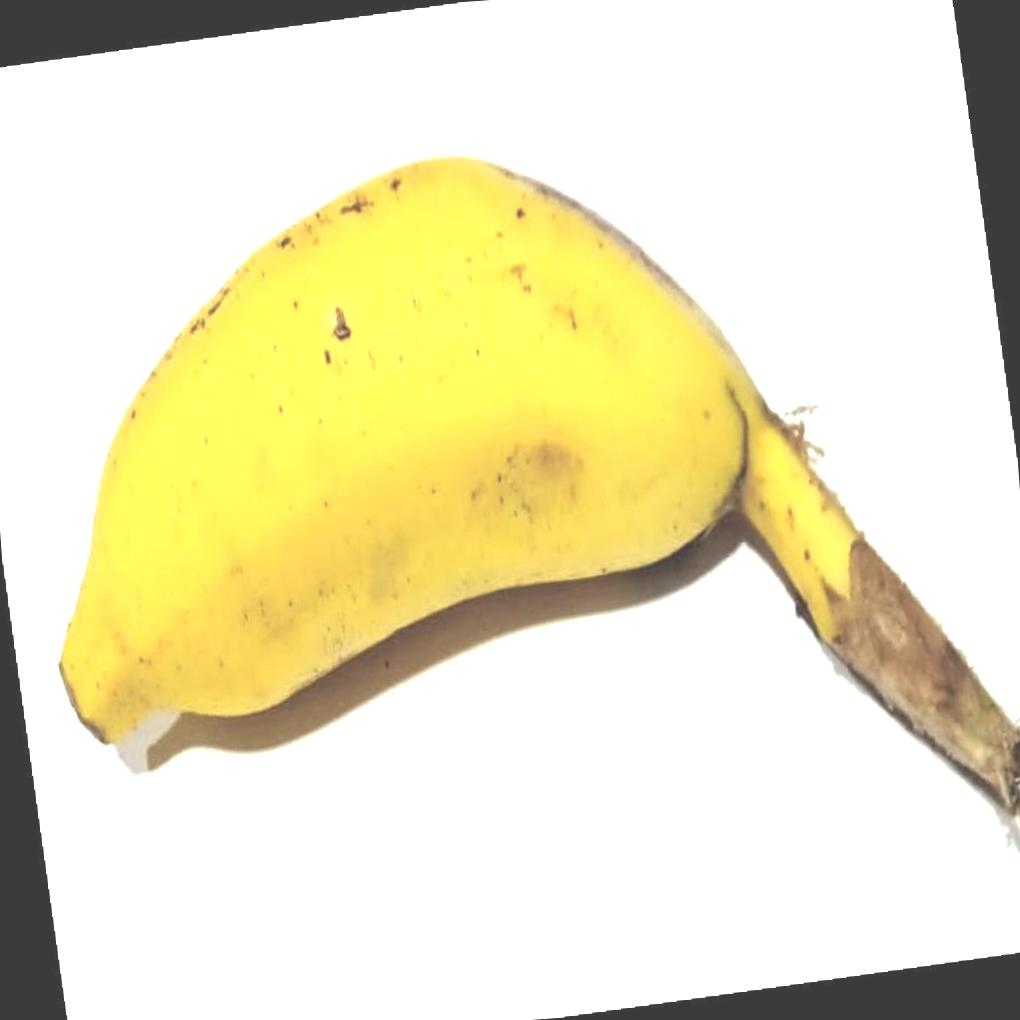Banana Ripe: (26, 126, 880, 866)
